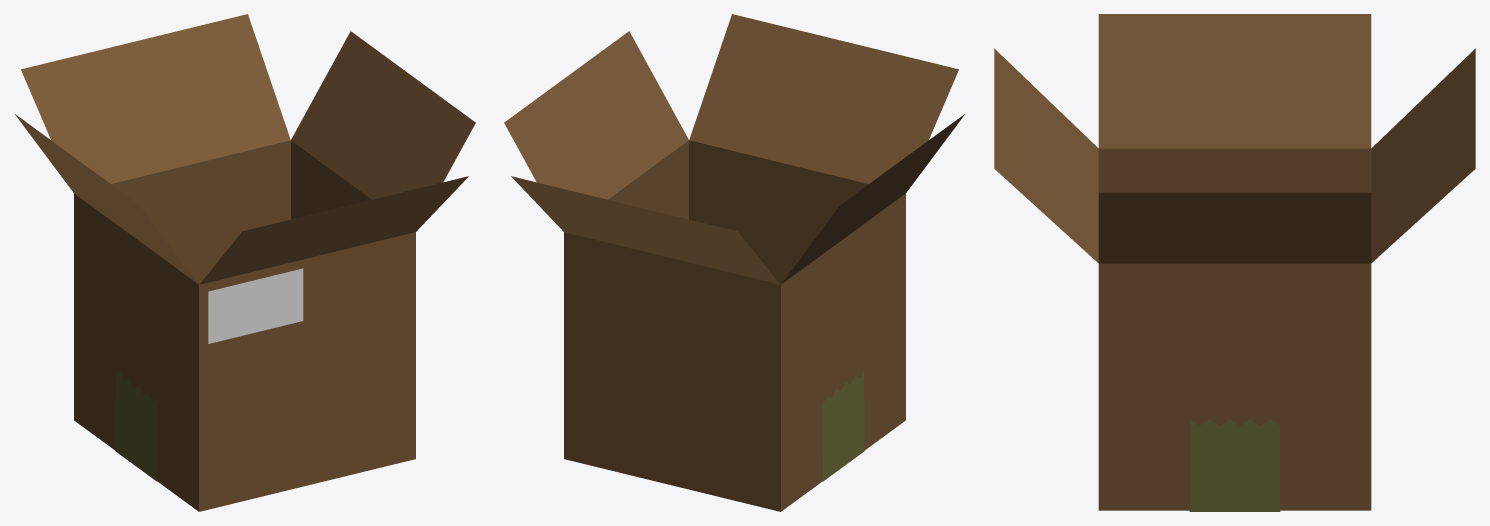
Rendered from box_open.fbx.
3 views of the same model, side by side, from view 1: azimuth 30°, elevation 25°; view 2: azimuth 150°, elevation 25°; view 3: azimuth 270°, elevation 25° (orthographic). The views are drawn at different scales.
Visible parts, largest first — view 1: Box_open.001; view 2: Box_open.001; view 3: Box_open.001.
Part boxes in pixels (x1=…): Box_open.001: x1=15, y1=14, x2=475, y2=511; Box_open.001: x1=504, y1=14, x2=964, y2=511; Box_open.001: x1=994, y1=14, x2=1475, y2=511.
Size of the model in its own units: 60.51 by 55.38 by 68.92.
